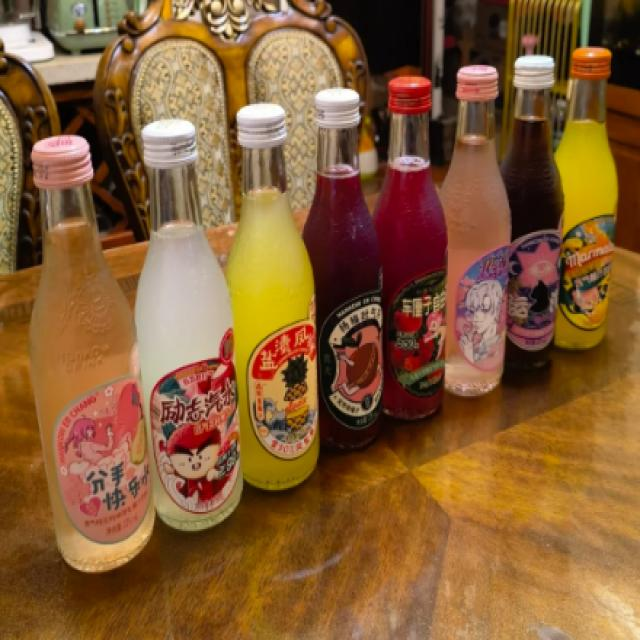bottle: (26, 133, 158, 575), (132, 118, 245, 535), (225, 102, 320, 492), (310, 88, 389, 450), (380, 73, 451, 423), (438, 62, 511, 398), (504, 52, 566, 390), (553, 48, 618, 356), (73, 3, 86, 36)
